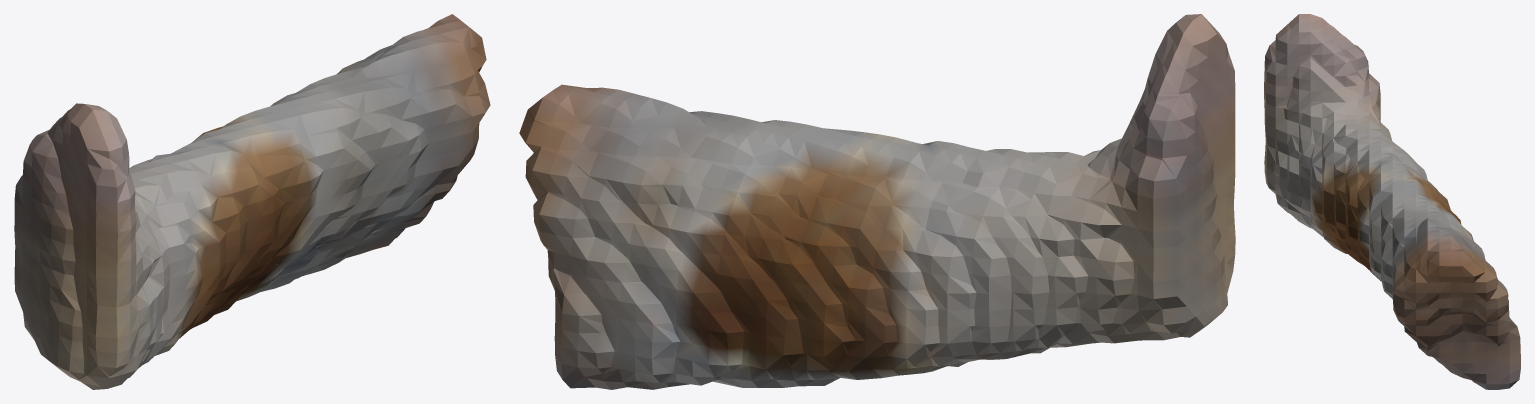
Rendered from producto-035.glb.
3 renders of one model, left to right at view 1: azimuth 30°, elevation 25°; view 2: azimuth 150°, elevation 25°; view 3: azimuth 270°, elevation 25°, orthographic. The views are drawn at different scales.
Parts seen in each view (by area): view 1: world; view 2: world; view 3: world.
Part boxes in pixels (x1,y1,x2,y2): world: (14,14,490,389); world: (519,14,1235,389); world: (1264,14,1520,389).
Size of the model in its own units: 0.993 by 0.6061 by 0.6068.
